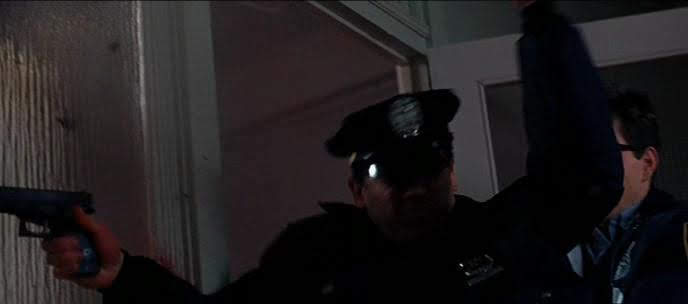gun: (2, 160, 118, 293)
